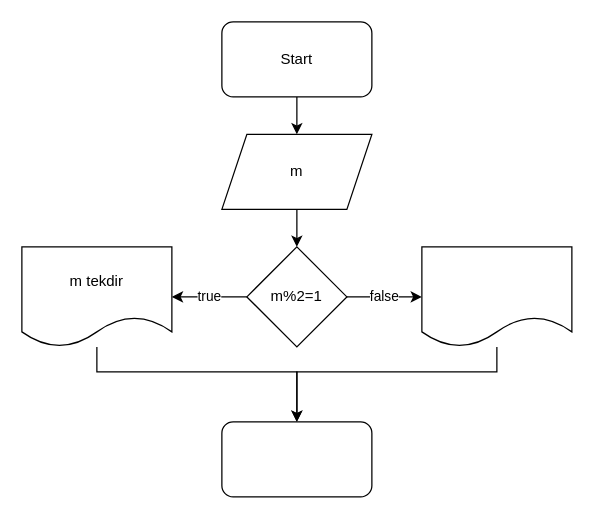
Some shapes in this 594 by 519 pixel diagram are drawn without their labels. Here are the shapes that lost their labels. From the top down, the centre of each, then its label:
pixel 496 296: m cutdur ve ya sifirdir
pixel 296 459: End
